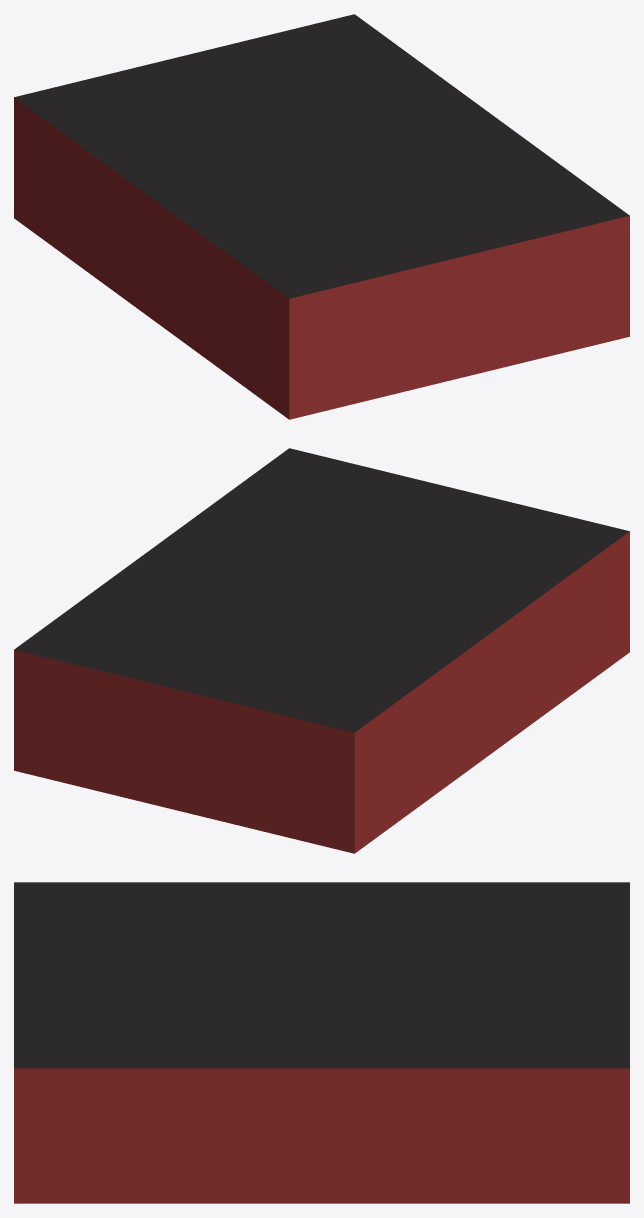
Rendered from salle.dae.
The picture shows the model from 3 angles, top to bottom: view 1: azimuth 30°, elevation 25°; view 2: azimuth 150°, elevation 25°; view 3: azimuth 270°, elevation 25°; orthographic projection. The views are drawn at different scales.
Visible parts, largest first — view 1: salle; view 2: salle; view 3: salle.
Boxes of the visible parts, x1,y1,x2,y2 form: salle: [14, 14, 629, 419]; salle: [14, 448, 629, 853]; salle: [14, 882, 629, 1203].
Bounding box in the file's own units: 99.23 × 139 × 33.68.
